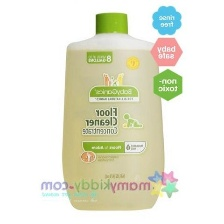cleaning_solution: (55, 8, 170, 216)
